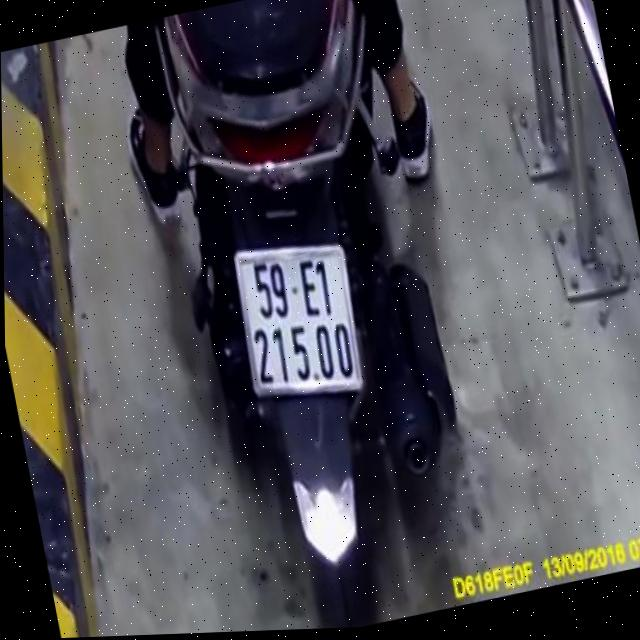motorcycle: (133, 0, 503, 635)
plate: (215, 216, 372, 420)
